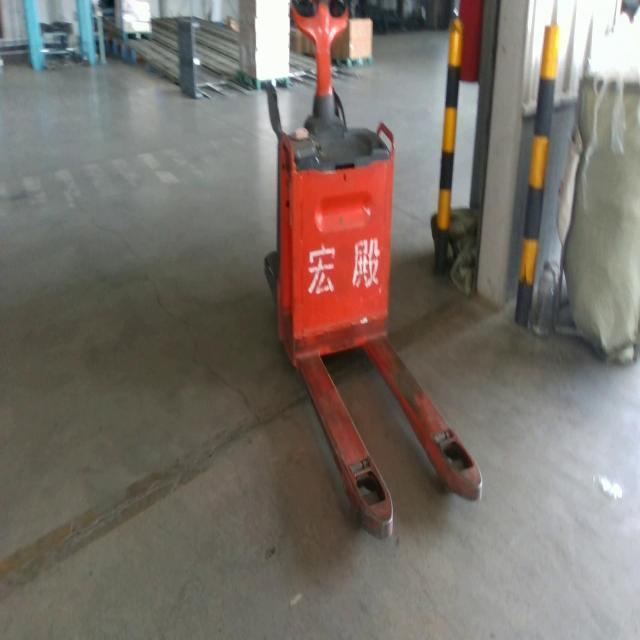forklift: (262, 0, 486, 537)
